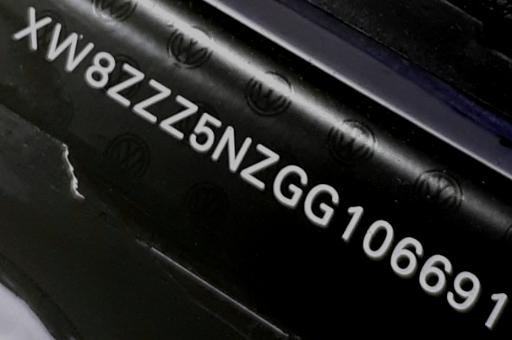letter: (45, 22, 95, 72), (9, 3, 53, 52), (210, 124, 254, 172), (237, 142, 281, 190), (128, 78, 172, 125), (158, 93, 200, 142), (106, 57, 146, 106), (272, 162, 310, 210), (302, 181, 340, 227), (360, 217, 396, 260), (388, 234, 424, 277), (187, 110, 223, 152), (445, 269, 481, 311), (418, 252, 454, 293), (84, 45, 116, 88), (481, 290, 509, 331), (337, 202, 365, 241)
